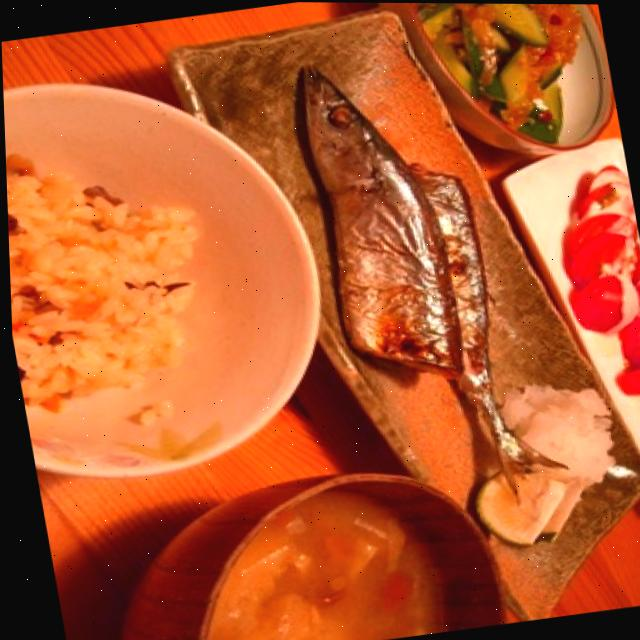熟制海鲜: (296, 34, 563, 527)
